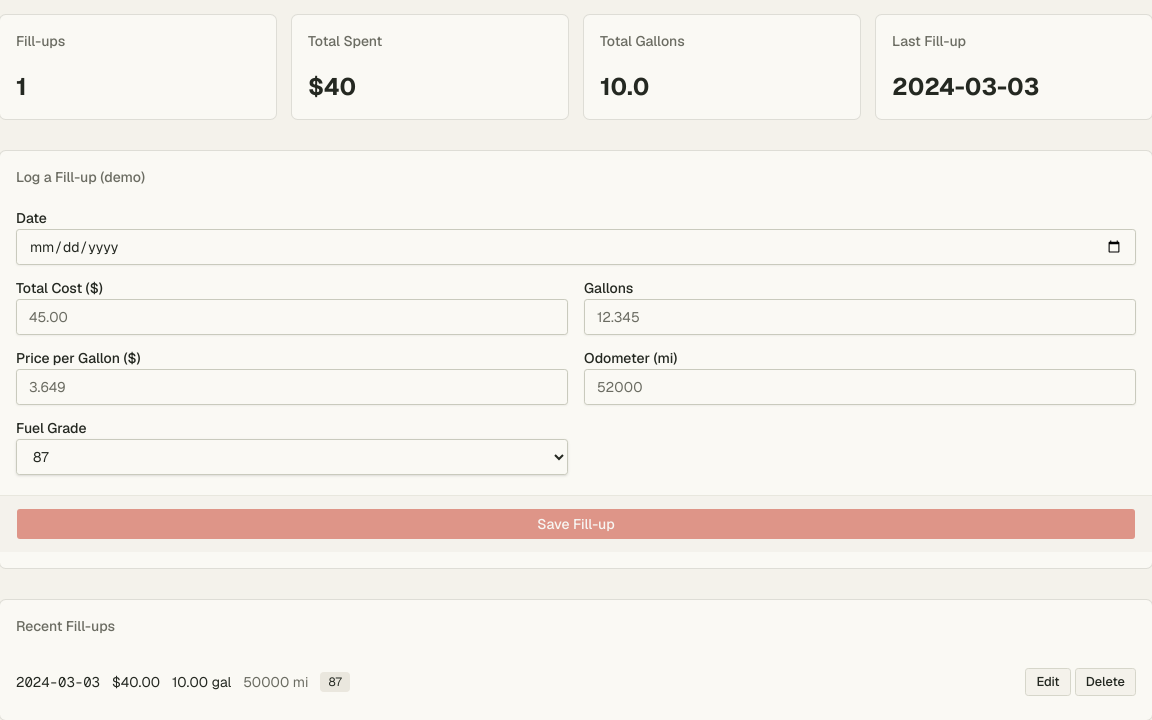
Scenario: DemoDashboard › deleting a base row tombstones it in the sandbox, leaving real data intact (G-19)
(page scrolled)
Click the button "Delete": x=1105, y=682 [1075,668,1136,696]
(page scrolled)
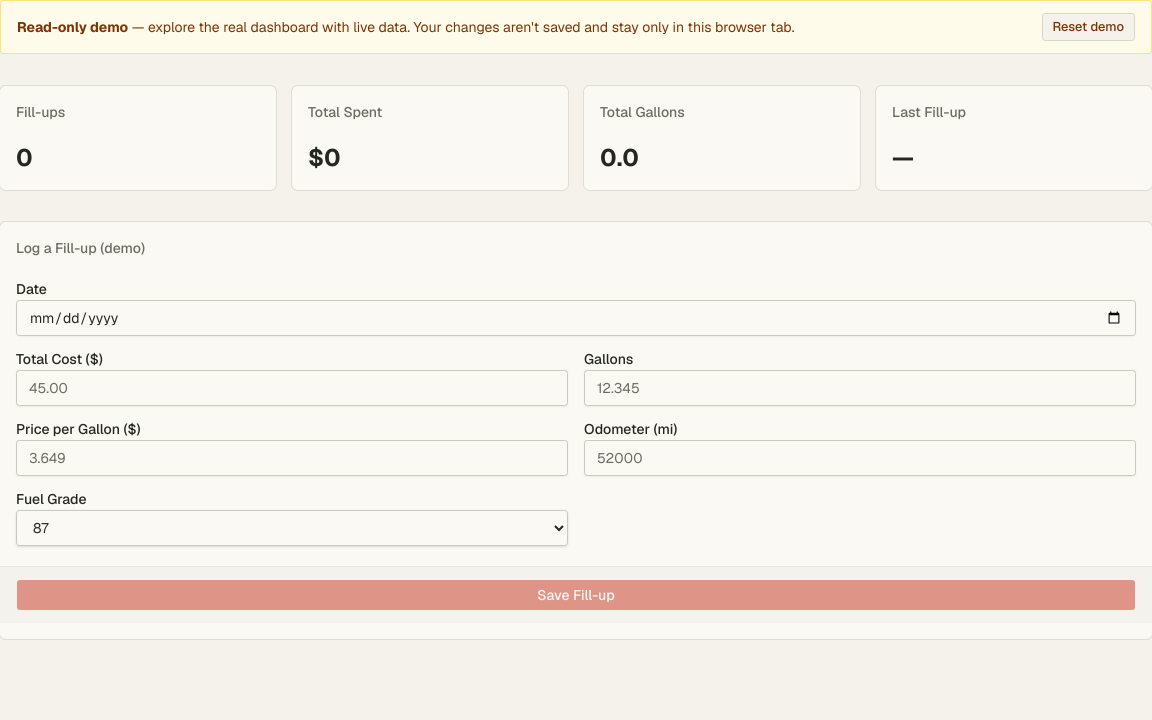
expect the text "2024-03-03" is gone: met
